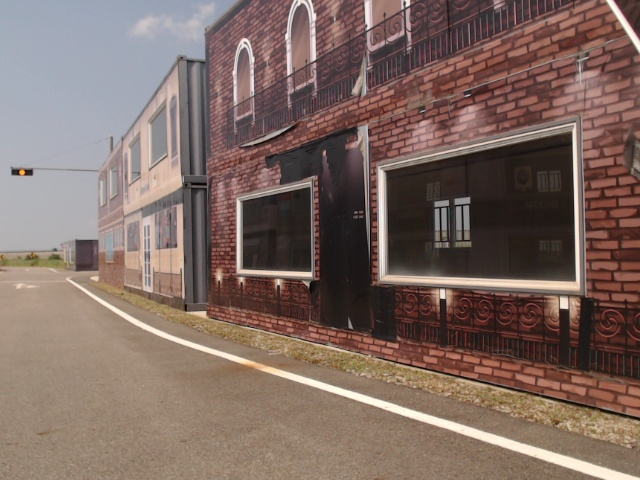orange_3: (10, 166, 36, 178)
